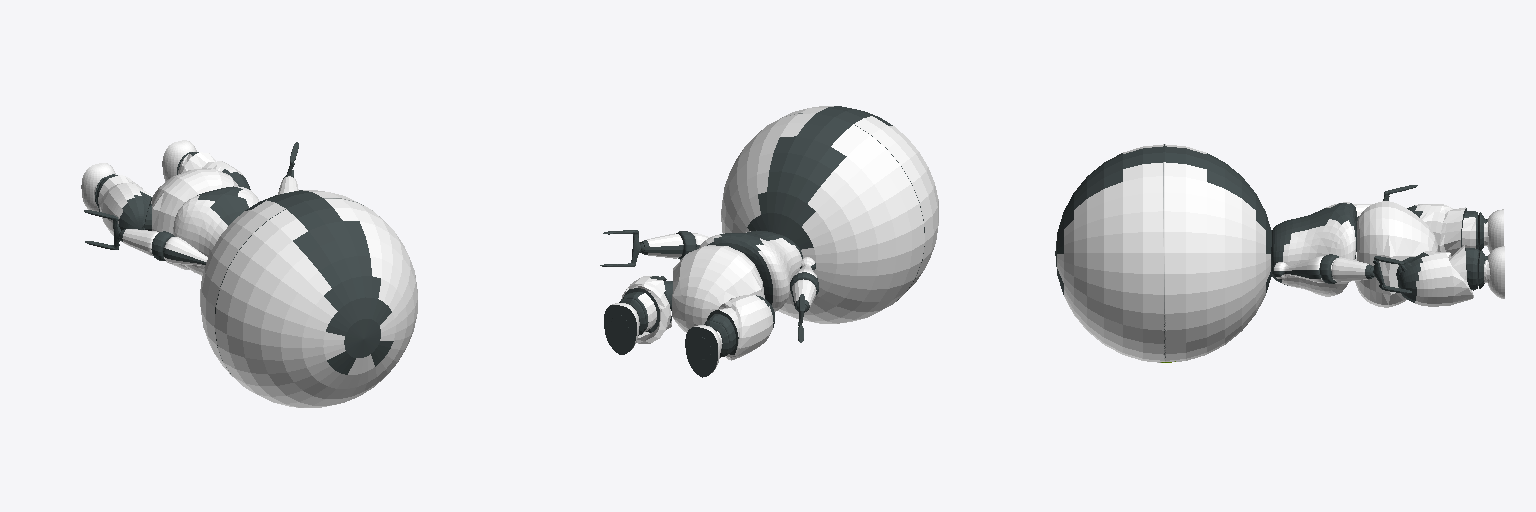
3 renders of one model, left to right at view 1: azimuth 30°, elevation 25°; view 2: azimuth 150°, elevation 25°; view 3: azimuth 270°, elevation 25°, orthographic.
Parts seen in each view (by area): view 1: RobotMesh; view 2: RobotMesh; view 3: RobotMesh.
Part boxes in pixels (bbox=[...]): RobotMesh: bbox=[81, 140, 417, 407]; RobotMesh: bbox=[600, 106, 938, 377]; RobotMesh: bbox=[1055, 144, 1504, 362].
Size of the model in its own units: 5.1 by 4.64 by 9.54.
Materials: 1 (1 with a texture image).